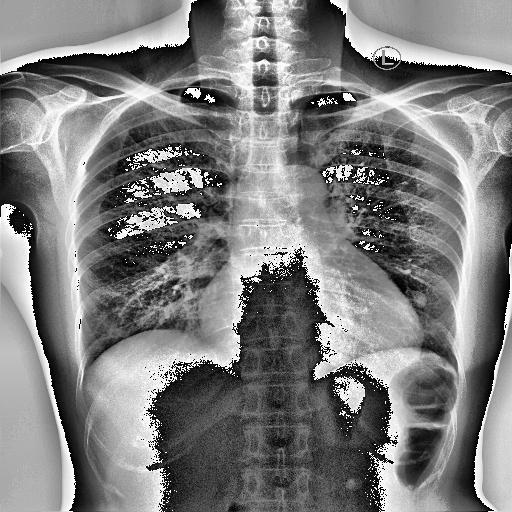3- Cardiomegaly: (164, 199, 424, 406), (176, 245, 441, 385), (196, 255, 426, 349)
